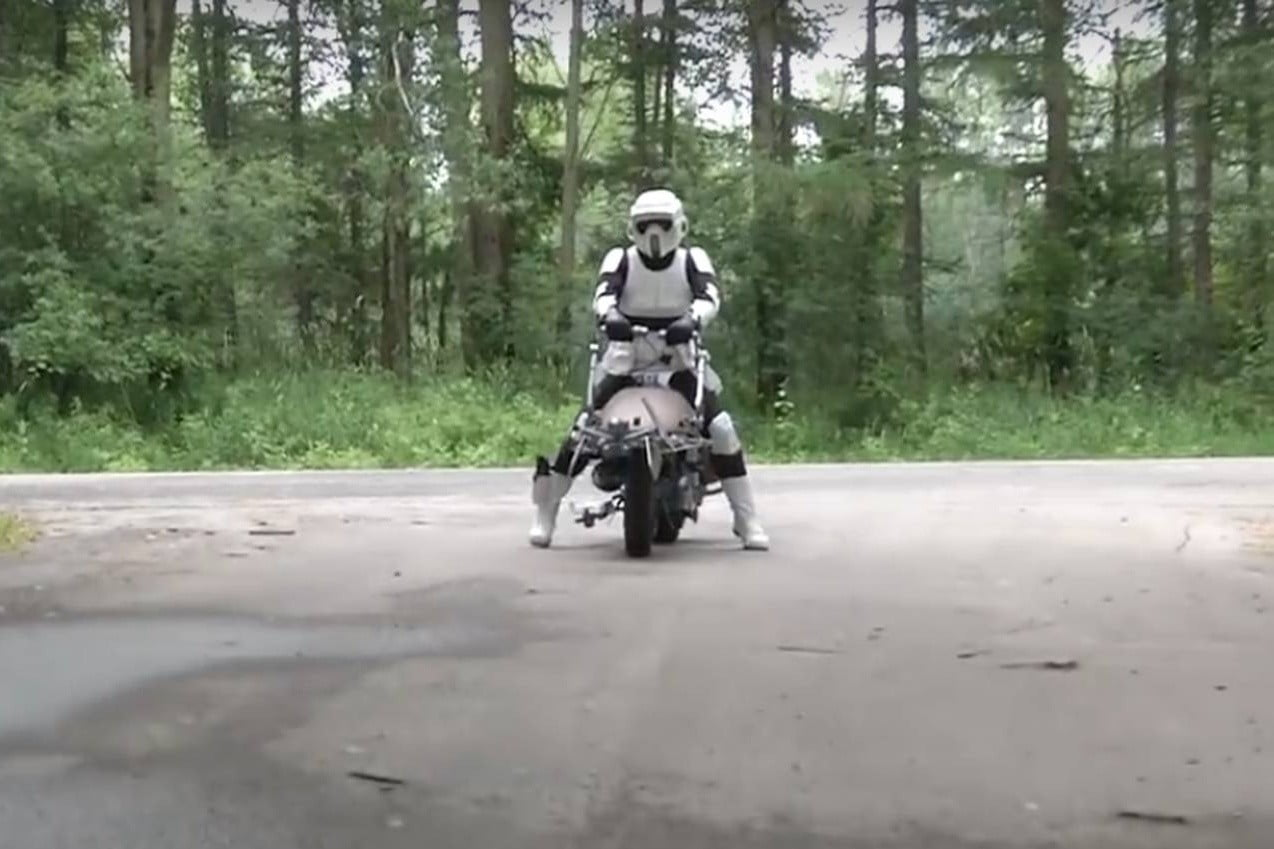bike: (553, 194, 758, 556)
